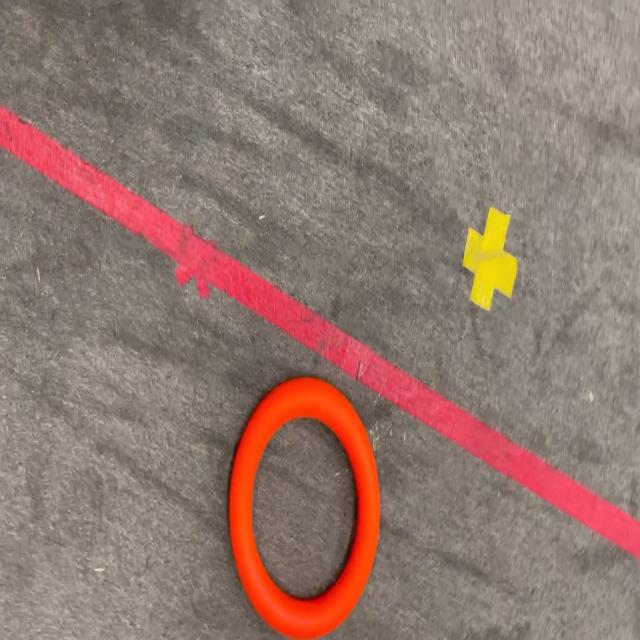note: (226, 379, 380, 640)
